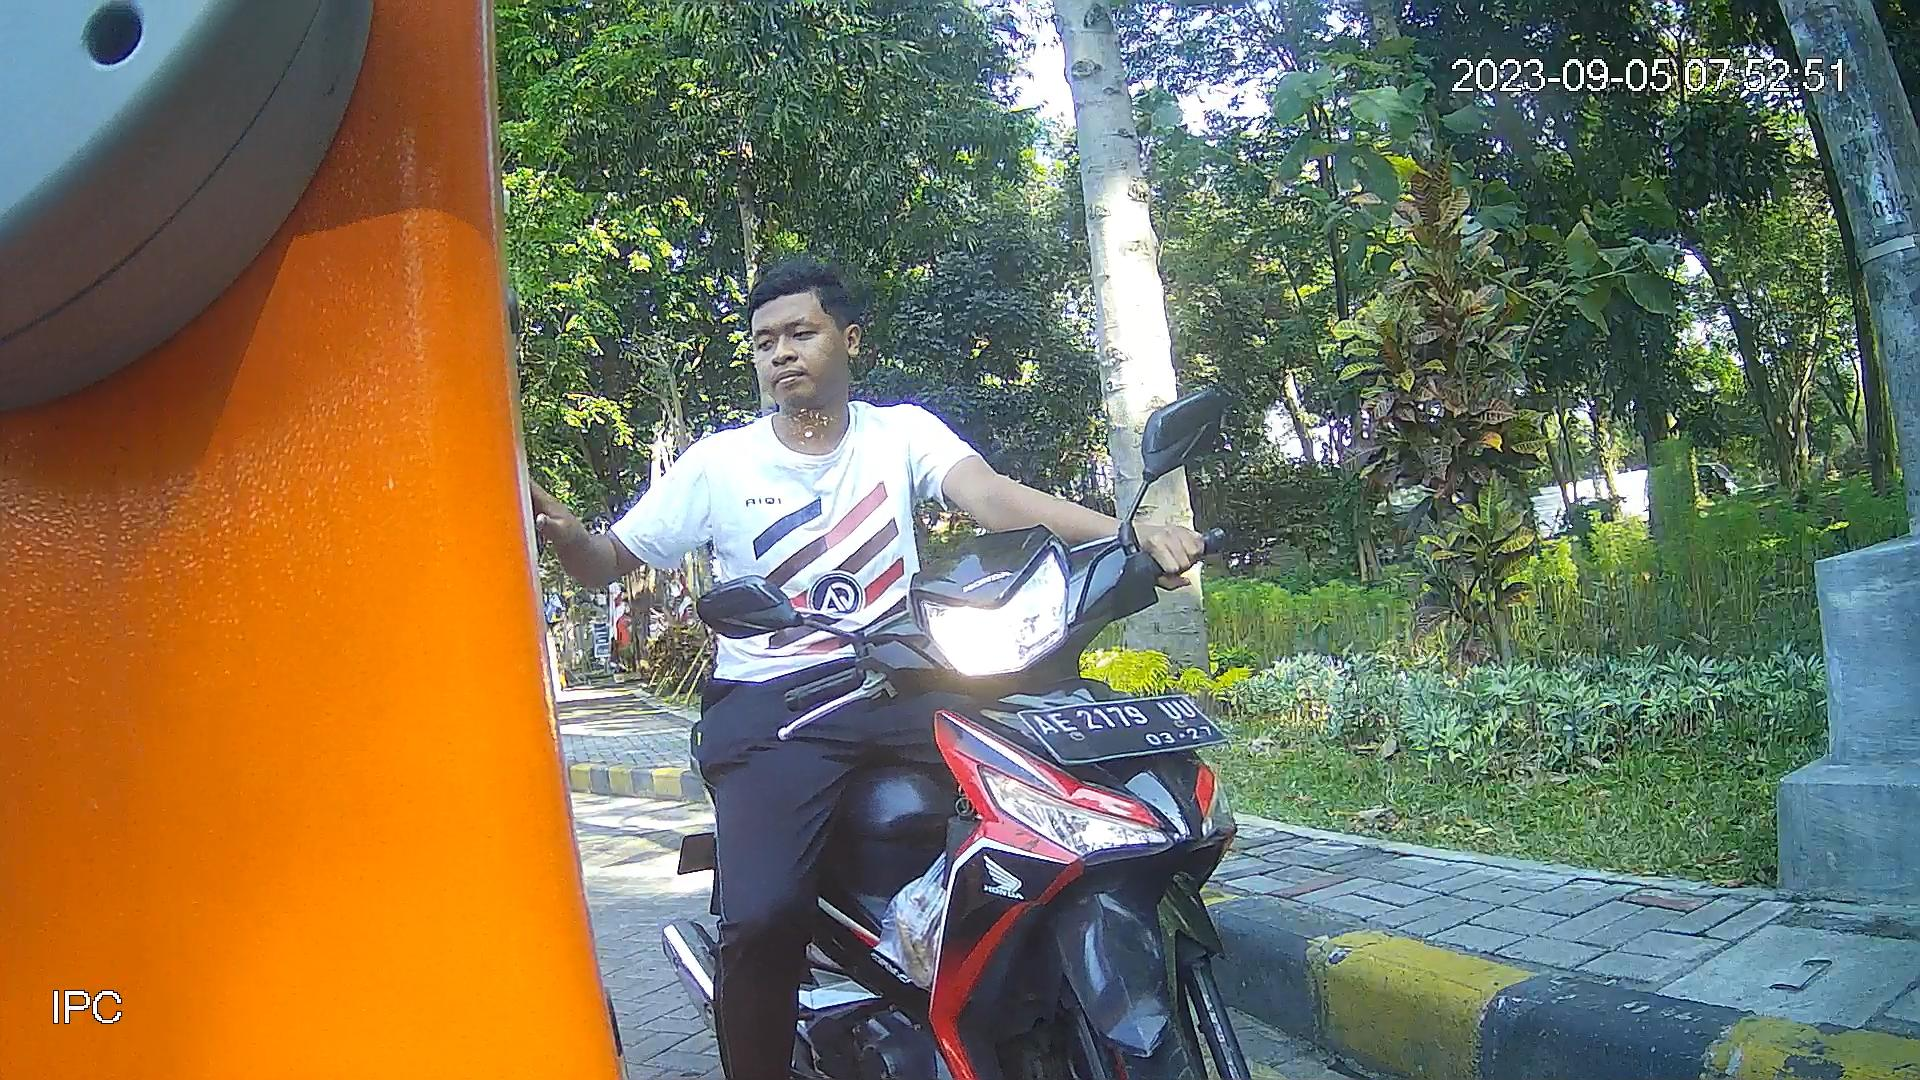plat: (1010, 692, 1234, 765)
